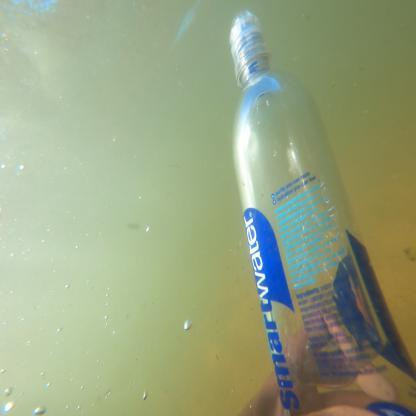Rác: (229, 2, 371, 416)
